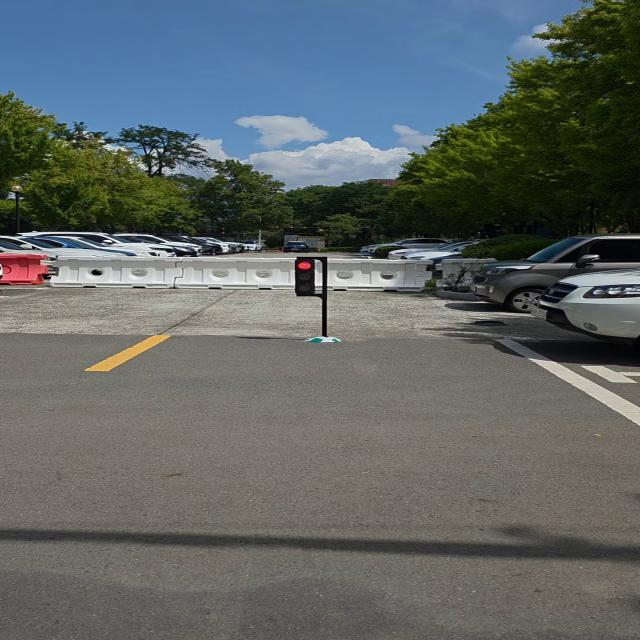red: (287, 256, 329, 298)
